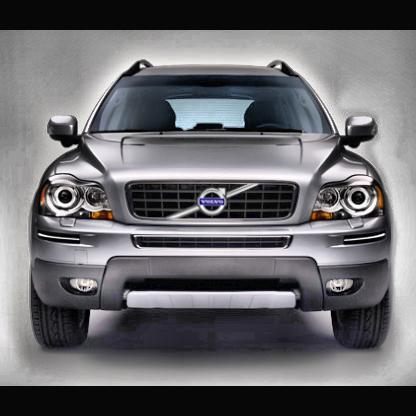Volvo XC90 SUV 2007: (30, 61, 395, 355)
